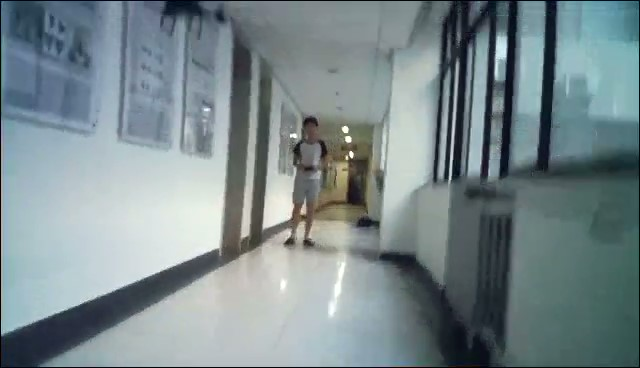drone: (136, 1, 244, 41)
person: (283, 116, 335, 252)
